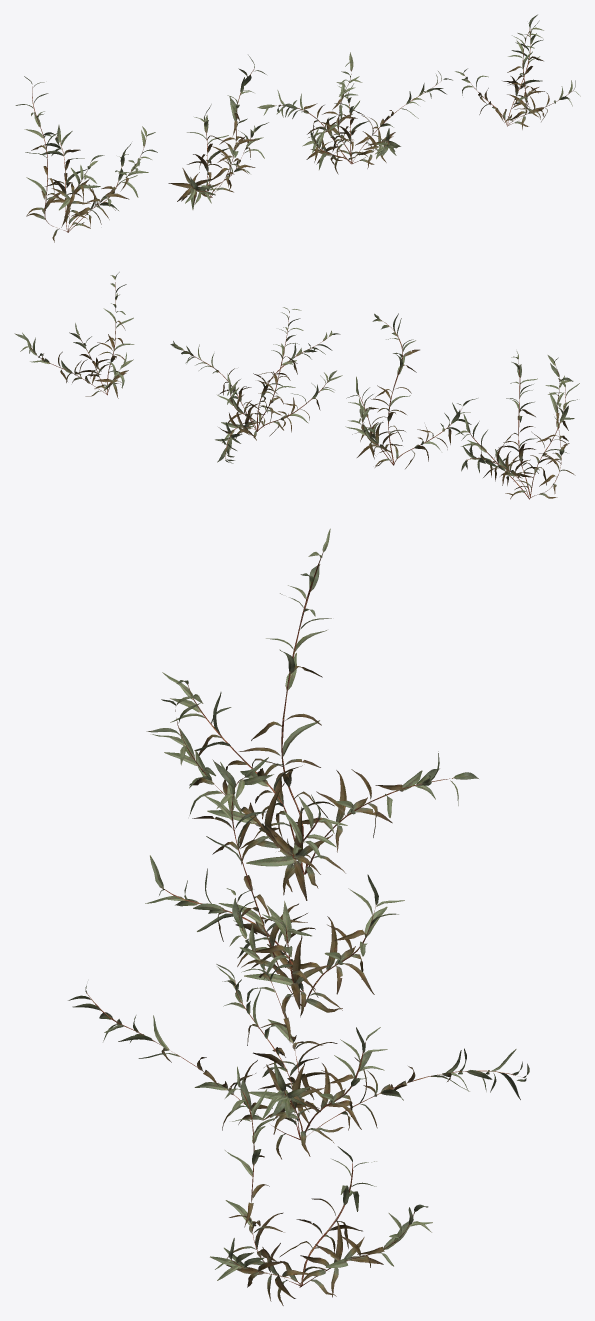
The model's file is shrub_02.glb.
3 views of the same model, one above another, from view 1: azimuth 30°, elevation 25°; view 2: azimuth 150°, elevation 25°; view 3: azimuth 270°, elevation 25° (orthographic). The views are drawn at different scales.
Parts seen in each view (by area): view 1: shrub_02_c, shrub_02_a, shrub_02_b, shrub_02_d; view 2: shrub_02_a, shrub_02_c, shrub_02_b, shrub_02_d; view 3: shrub_02_a, shrub_02_c, shrub_02_b, shrub_02_d.
Part boxes in pixels (box(x1,y1,x2,y2)): shrub_02_c: box(257, 52, 452, 174); shrub_02_a: box(15, 76, 157, 242); shrub_02_b: box(168, 55, 268, 209); shrub_02_d: box(455, 14, 580, 129); shrub_02_a: box(455, 351, 579, 499); shrub_02_c: box(170, 307, 342, 463); shrub_02_b: box(345, 313, 477, 468); shrub_02_d: box(14, 272, 134, 398); shrub_02_a: box(146, 528, 478, 900); shrub_02_c: box(68, 888, 529, 1159); shrub_02_b: box(145, 757, 404, 1018); shrub_02_d: box(210, 1066, 432, 1305).
Bounding box in the file's own units: 6.05 × 1.7 × 2.29.
1 material, 1 textured.
